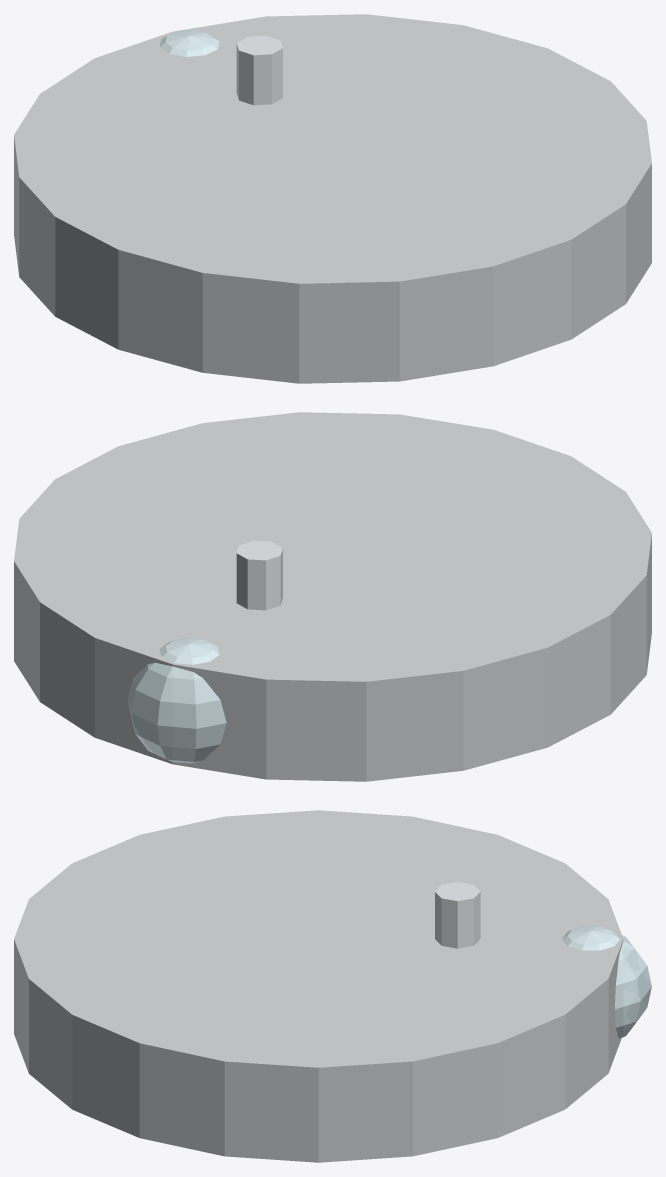
File: fountain.glb
3 renders of one model, top to bottom at view 1: azimuth 30°, elevation 25°; view 2: azimuth 150°, elevation 25°; view 3: azimuth 270°, elevation 25°, orthographic. The views are drawn at different scales.
Visible parts, largest first — view 1: Rim, Spout, Bubble; view 2: Rim, Bubble, Spout; view 3: Rim, Bubble, Spout.
Part boxes in pixels (bbox=[...]): Rim: bbox=[14, 14, 651, 383]; Spout: bbox=[236, 35, 282, 105]; Bubble: bbox=[159, 30, 219, 56]; Rim: bbox=[14, 412, 651, 781]; Bubble: bbox=[127, 638, 226, 763]; Spout: bbox=[236, 541, 282, 610]; Rim: bbox=[14, 810, 623, 1162]; Bubble: bbox=[562, 926, 651, 1038]; Spout: bbox=[435, 882, 480, 948].
Bounding box in the file's own units: 3.2 × 1.1 × 3.35.
